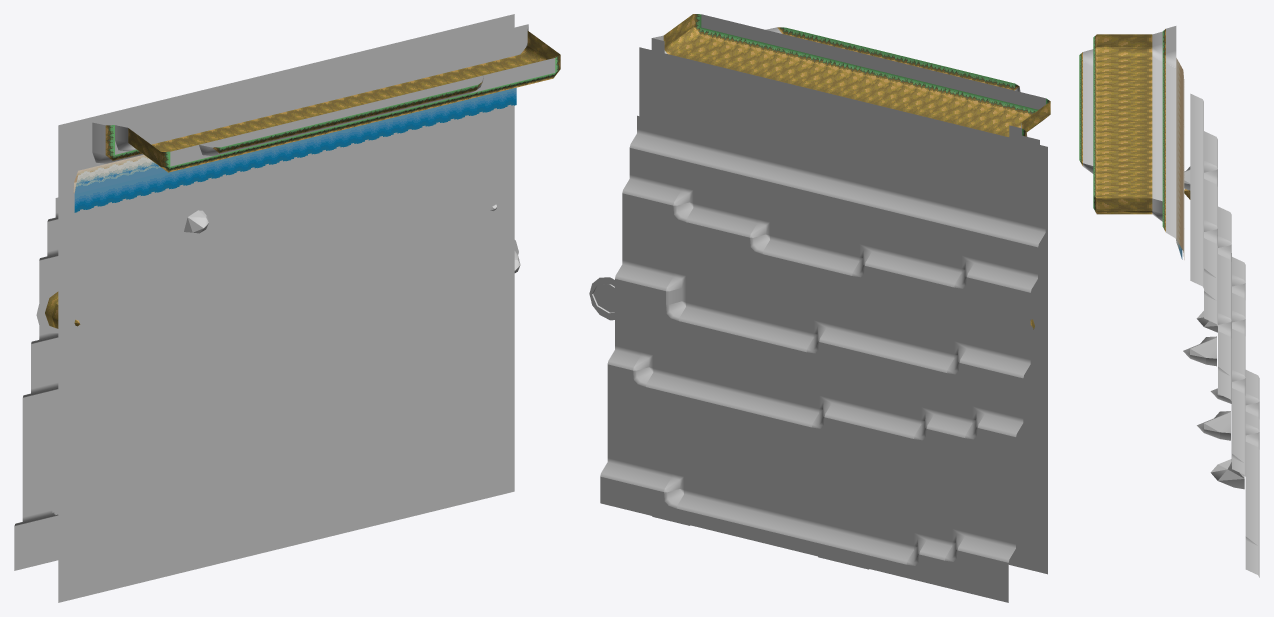
The model's file is Barrier-Reef_05_12.obj.
The picture shows the model from 3 angles, left to right: view 1: azimuth 30°, elevation 25°; view 2: azimuth 150°, elevation 25°; view 3: azimuth 270°, elevation 25°; orthographic projection. The views are drawn at different scales.
Parts seen in each view (by area): view 1: map; view 2: map; view 3: map.
Boxes of the visible parts, bbox=[...] form: map: bbox=[14, 14, 560, 602]; map: bbox=[589, 14, 1050, 602]; map: bbox=[1079, 26, 1259, 577].
Bounding box in the file's own units: 34.41 × 32.13 × 13.
